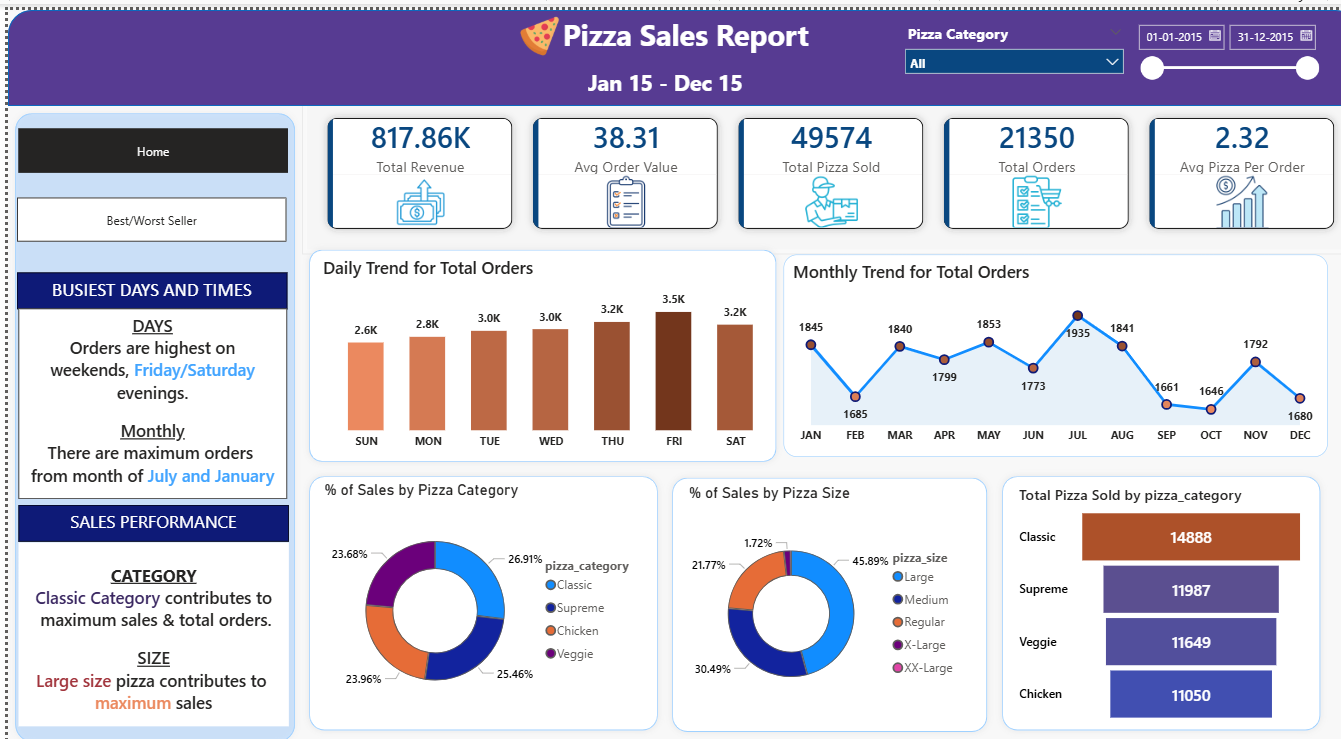

What the dashboard file says about the page in this screenshot:
{"tool":"powerbi","page":{"name":"Home","canvas":[1500,820],"ordinal":0},"visuals":[{"type":"shape","box":[0,106.5,326.5,713.3],"z":0},{"type":"cardVisual","fields":{"Data":["pizza_sales.Total Revenue","pizza_sales.Avg Order Value","pizza_sales.Total Pizza Sold","pizza_sales.Total Orders","pizza_sales.Avg Pizza Per Order"]},"box":[326.2,91.5,1173.4,179.8],"z":1000},{"type":"shape","box":[0,0,1499.4,106.5],"z":2000},{"type":"textbox","box":[502.2,0,498.6,58.6],"z":3000},{"type":"textbox","box":[615.7,58.6,227.1,47.9],"z":4000},{"type":"image","box":[564.3,7.1,51.5,44.4],"z":5000},{"type":"shape","box":[326.2,258,534.3,251.3],"z":6000},{"type":"columnChart","title":"Daily Trend for Total Orders","fields":{"Category":["pizza_sales.Order Day"],"Y":["pizza_sales.Total Orders"]},"box":[344.5,273,516,223],"z":7000},{"type":"areaChart","title":"Monthly Trend for Total Orders","fields":{"Category":["pizza_sales.Order Month"],"Y":["pizza_sales.Total Orders"]},"box":[860.5,271.3,604.2,224.7],"z":8000},{"type":"shape","box":[326.5,509.3,402.8,298.1],"z":9000},{"type":"shape","box":[729.3,511,365.5,298.1],"z":10000},{"type":"textbox","box":[10.6,291,299.9,40.8],"z":11000},{"type":"shape","box":[1094.8,509.3,369.1,298.1],"z":12000},{"type":"donutChart","title":"% of Sales by Pizza Category","fields":{"Category":["pizza_sales.pizza_category"],"Y":["pizza_sales.Total Revenue"]},"box":[346,523.5,363.8,267.9],"z":13000},{"type":"donutChart","title":"% of Sales by Pizza Size","fields":{"Category":["pizza_sales.pizza_size"],"Y":["pizza_sales.Total Revenue"]},"box":[750.6,525.2,315.9,267.9],"z":14000},{"type":"funnel","fields":{"Y":["pizza_sales.Total Pizza Sold"],"Category":["pizza_sales.pizza_category"]},"box":[1116.1,525.2,326.5,269.7],"z":15000},{"type":"textbox","box":[12.4,331.8,298.1,211.2],"z":16000},{"type":"textbox","box":[12.4,550.1,299.9,40.8],"z":17000},{"type":"textbox","box":[12.4,590.9,299.9,204.1],"z":18000},{"type":"slicer","fields":{"Values":["pizza_sales.pizza_category"]},"box":[984.8,10.6,262.6,85.2],"z":19000},{"type":"slicer","fields":{"Values":["pizza_sales.order_date"]},"box":[1242.1,7.1,221.8,85.2],"z":20000},{"type":"pageNavigator","box":[12.4,131.3,299.9,49.7],"z":20001},{"type":"pageNavigator","box":[10.6,207.6,299.9,49.7],"z":20002}]}

Visuals, with their boxes in screenshot pixels (x1, y1, x2, y2), scaled from the page's 1500x820 canvas onto the 1341x739 screenshot:
shape: (0, 96, 292, 738)
cardVisual - pizza_sales.Total Revenue x pizza_sales.Avg Order Value: (292, 82, 1340, 245)
shape: (0, 0, 1340, 96)
textbox: (449, 0, 895, 53)
textbox: (550, 53, 753, 96)
image: (504, 6, 551, 46)
shape: (292, 233, 769, 459)
"Daily Trend for Total Orders" columnChart: (308, 246, 769, 447)
"Monthly Trend for Total Orders" areaChart: (769, 245, 1309, 447)
shape: (292, 459, 652, 728)
shape: (652, 461, 979, 729)
textbox: (9, 262, 278, 299)
shape: (979, 459, 1309, 728)
"% of Sales by Pizza Category" donutChart: (309, 472, 635, 713)
"% of Sales by Pizza Size" donutChart: (671, 473, 953, 715)
funnel - pizza_sales.Total Pizza Sold x pizza_sales.pizza_category: (998, 473, 1290, 716)
textbox: (11, 299, 278, 489)
textbox: (11, 496, 279, 533)
textbox: (11, 533, 279, 716)
slicer - pizza_sales.pizza_category: (880, 10, 1115, 86)
slicer - pizza_sales.order_date: (1110, 6, 1309, 83)
pageNavigator: (11, 118, 279, 163)
pageNavigator: (9, 187, 278, 232)
